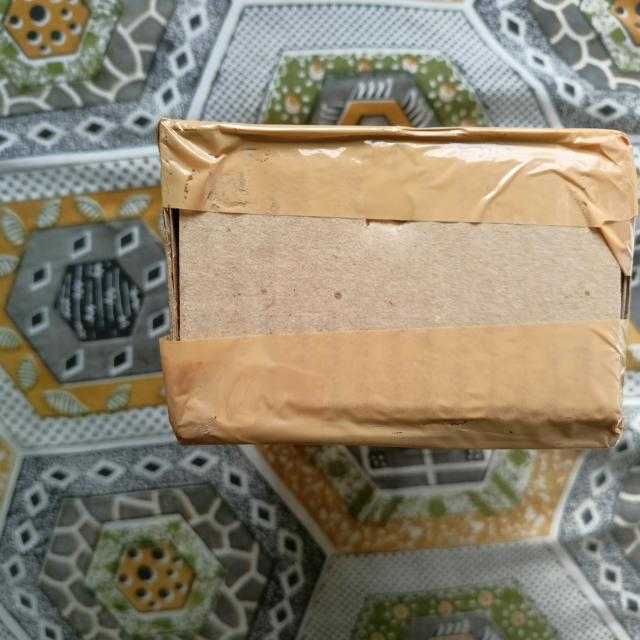box: (159, 128, 625, 443)
